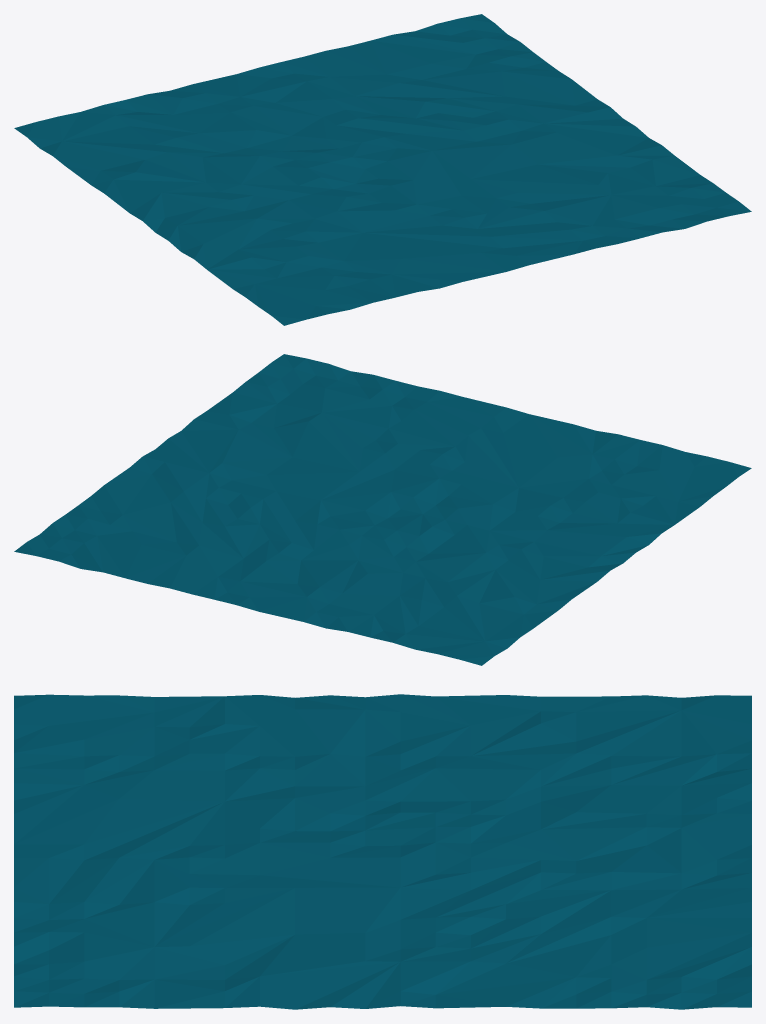
The model's file is water.FBX.
3 views of the same model, one above another, from view 1: azimuth 30°, elevation 25°; view 2: azimuth 150°, elevation 25°; view 3: azimuth 270°, elevation 25° (orthographic). The views are drawn at different scales.
Visible parts, largest first — view 1: water; view 2: water; view 3: water.
Part boxes in pixels (box(x1,y1,x2,y2)): water: box(14, 14, 751, 325); water: box(14, 354, 751, 665); water: box(14, 694, 751, 1009).
Size of the model in its own units: 140 by 0.9629 by 140.
